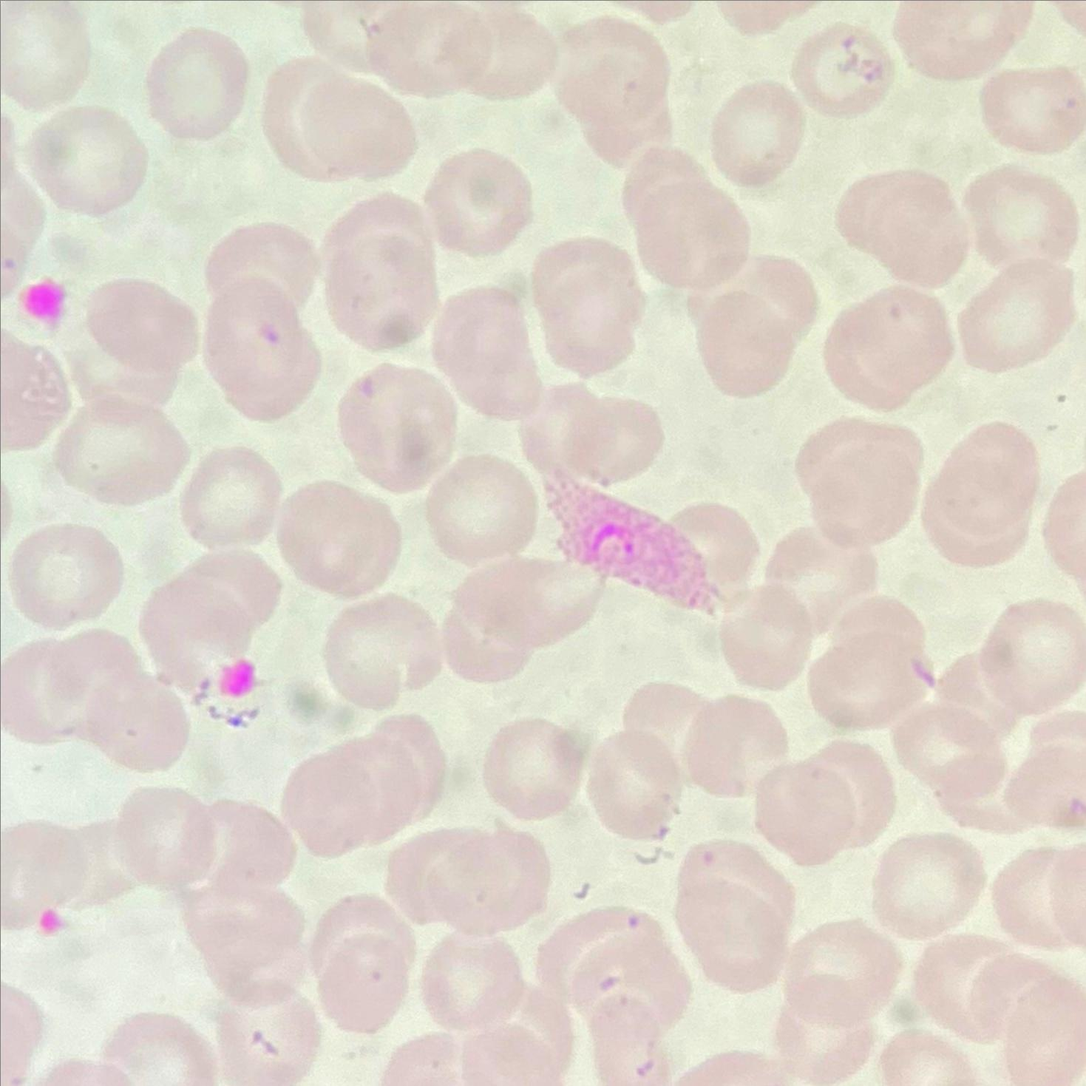Infected: (535, 469, 722, 607)
Uninfected: (140, 552, 285, 701), (446, 555, 602, 681), (318, 199, 444, 353), (537, 907, 682, 1036), (267, 61, 419, 184), (620, 153, 752, 294), (552, 18, 677, 163), (792, 418, 925, 554), (920, 421, 1042, 569), (200, 274, 323, 419), (758, 739, 895, 865), (691, 265, 819, 399), (675, 844, 793, 988), (396, 826, 547, 936), (825, 284, 954, 410), (835, 168, 970, 288), (529, 240, 647, 377), (808, 603, 933, 731), (274, 478, 404, 601), (338, 362, 459, 489), (53, 397, 191, 508), (78, 277, 199, 403), (430, 284, 547, 414), (183, 882, 307, 1003), (519, 381, 659, 488), (308, 896, 418, 1031), (895, 699, 1013, 820), (322, 595, 444, 710), (28, 103, 150, 216), (778, 918, 895, 1034), (973, 598, 1086, 717), (424, 453, 540, 566), (963, 946, 1076, 1062), (961, 163, 1074, 278), (959, 260, 1074, 373), (363, 4, 498, 98), (76, 660, 189, 772), (1, 816, 111, 929), (8, 522, 122, 631), (761, 526, 883, 627), (180, 798, 298, 901), (679, 694, 789, 801), (424, 149, 534, 255), (146, 30, 251, 141), (582, 730, 684, 841), (2, 634, 104, 745), (872, 833, 980, 937), (914, 930, 1020, 1034), (416, 935, 527, 1034), (716, 583, 816, 692), (112, 787, 217, 890), (481, 718, 585, 821), (203, 221, 320, 310), (179, 448, 283, 548), (896, 3, 1028, 81), (790, 21, 893, 119), (977, 64, 1085, 154), (454, 7, 557, 101), (993, 844, 1082, 949), (710, 84, 804, 183), (998, 734, 1085, 840), (4, 2, 89, 110), (284, 754, 373, 856), (214, 1000, 316, 1086), (328, 738, 415, 835), (3, 330, 72, 449), (666, 502, 753, 595), (103, 1012, 214, 1084), (933, 651, 1020, 735), (464, 1019, 568, 1085), (618, 679, 706, 756), (377, 718, 441, 823), (301, 4, 392, 71), (878, 1030, 981, 1086), (380, 1033, 474, 1084)
